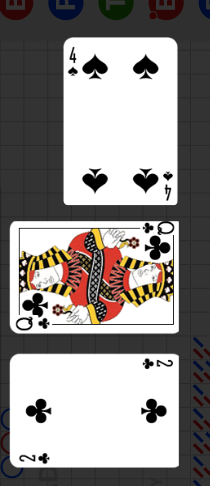2C: (140, 357, 175, 371)
4S: (67, 45, 80, 79), (162, 169, 175, 202)
QC: (132, 223, 179, 267), (12, 290, 58, 334)
